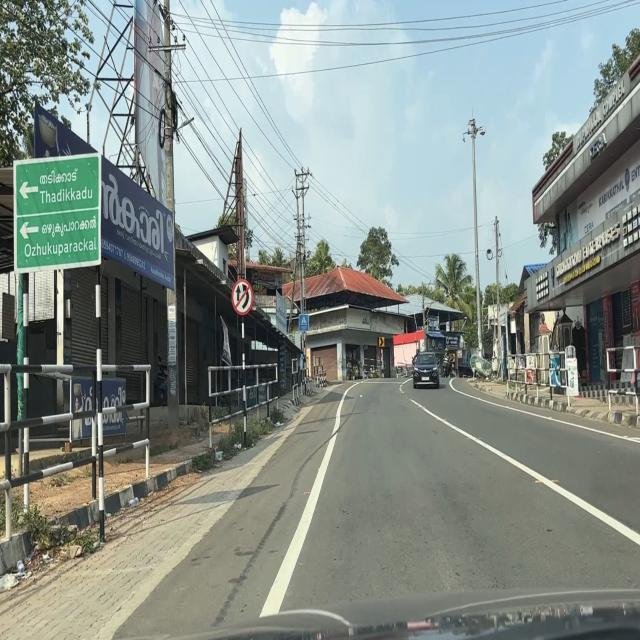GENERAL: (12, 151, 104, 275)
OVERTAKING_PROHIBITED: (231, 278, 254, 316)
PEDESTRIAN_CROSSING: (299, 314, 309, 332)
TURN_RIGHT: (379, 337, 384, 347)
